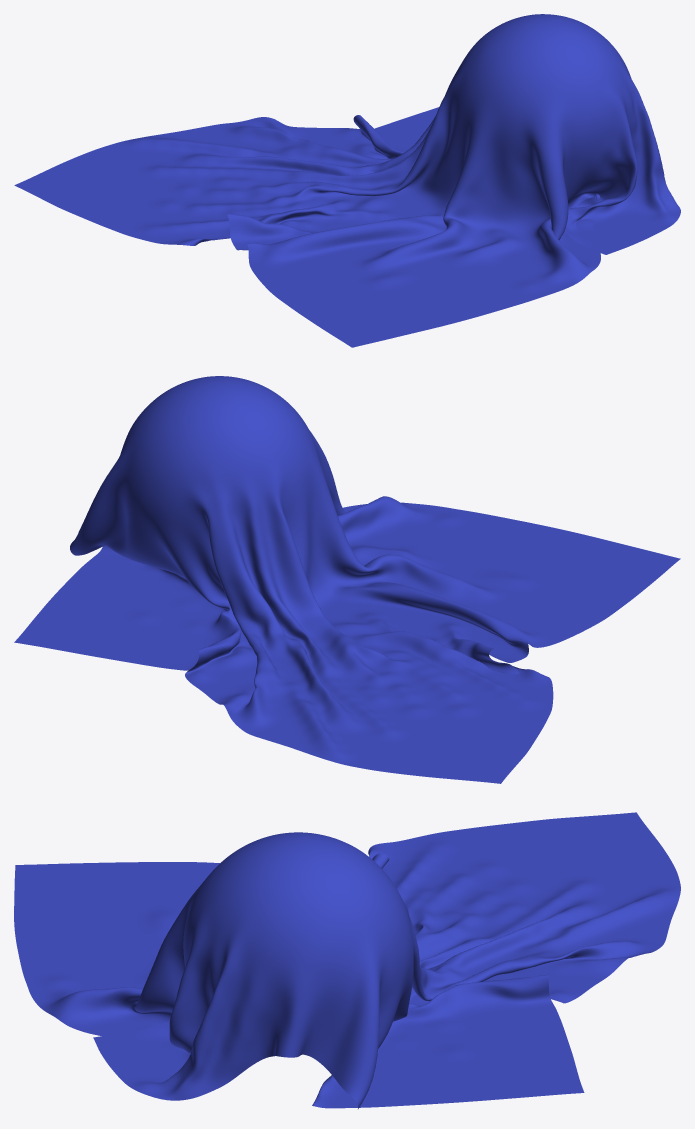
Rendered from Cloth.gltf.
3 views of the same model, one above another, from view 1: azimuth 30°, elevation 25°; view 2: azimuth 150°, elevation 25°; view 3: azimuth 270°, elevation 25° (orthographic). The views are drawn at different scales.
Visible parts, largest first — view 1: clothFoldsMesh; view 2: clothFoldsMesh; view 3: clothFoldsMesh.
Boxes of the visible parts, <box> form: clothFoldsMesh: <box>14,14,680,347</box>; clothFoldsMesh: <box>14,376,680,783</box>; clothFoldsMesh: <box>14,812,680,1108</box>.
Bounding box in the file's own units: 4.42 × 1.42 × 4.08.
